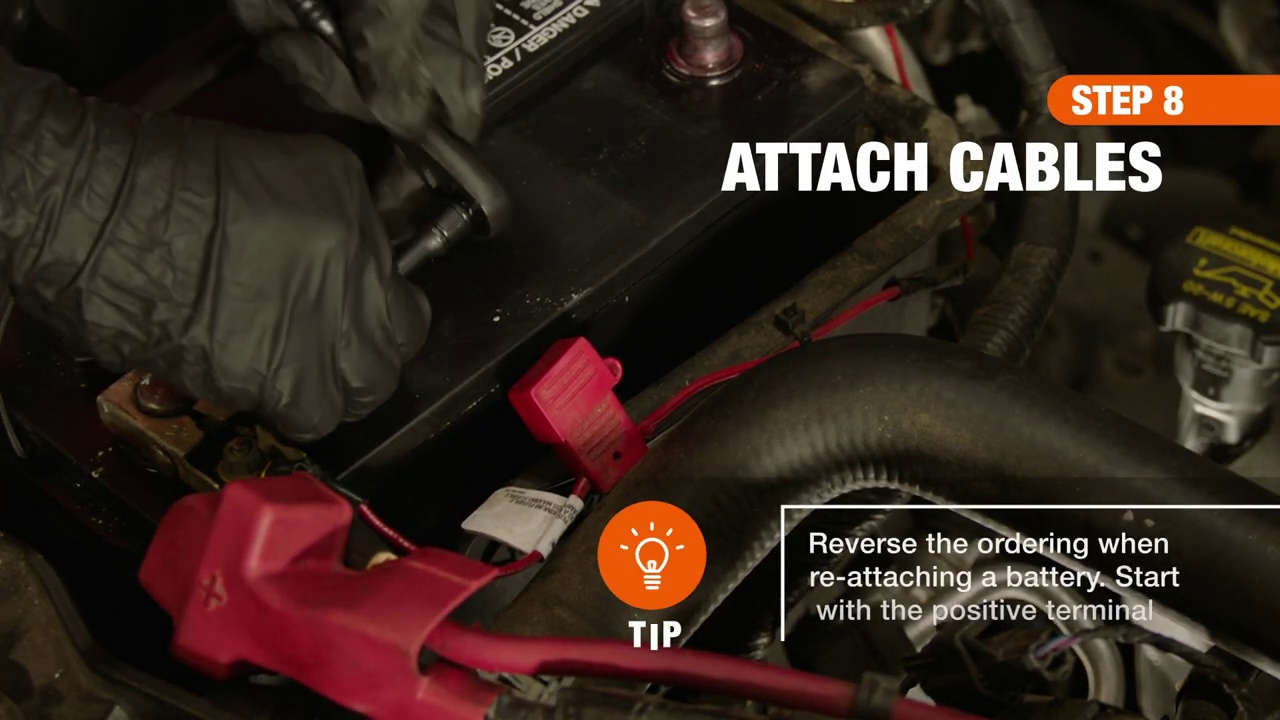battery: (21, 10, 879, 545)
neg_disconnected: (637, 3, 780, 112)
pos_connected: (71, 354, 372, 653)
pos_touched: (49, 206, 384, 606)
